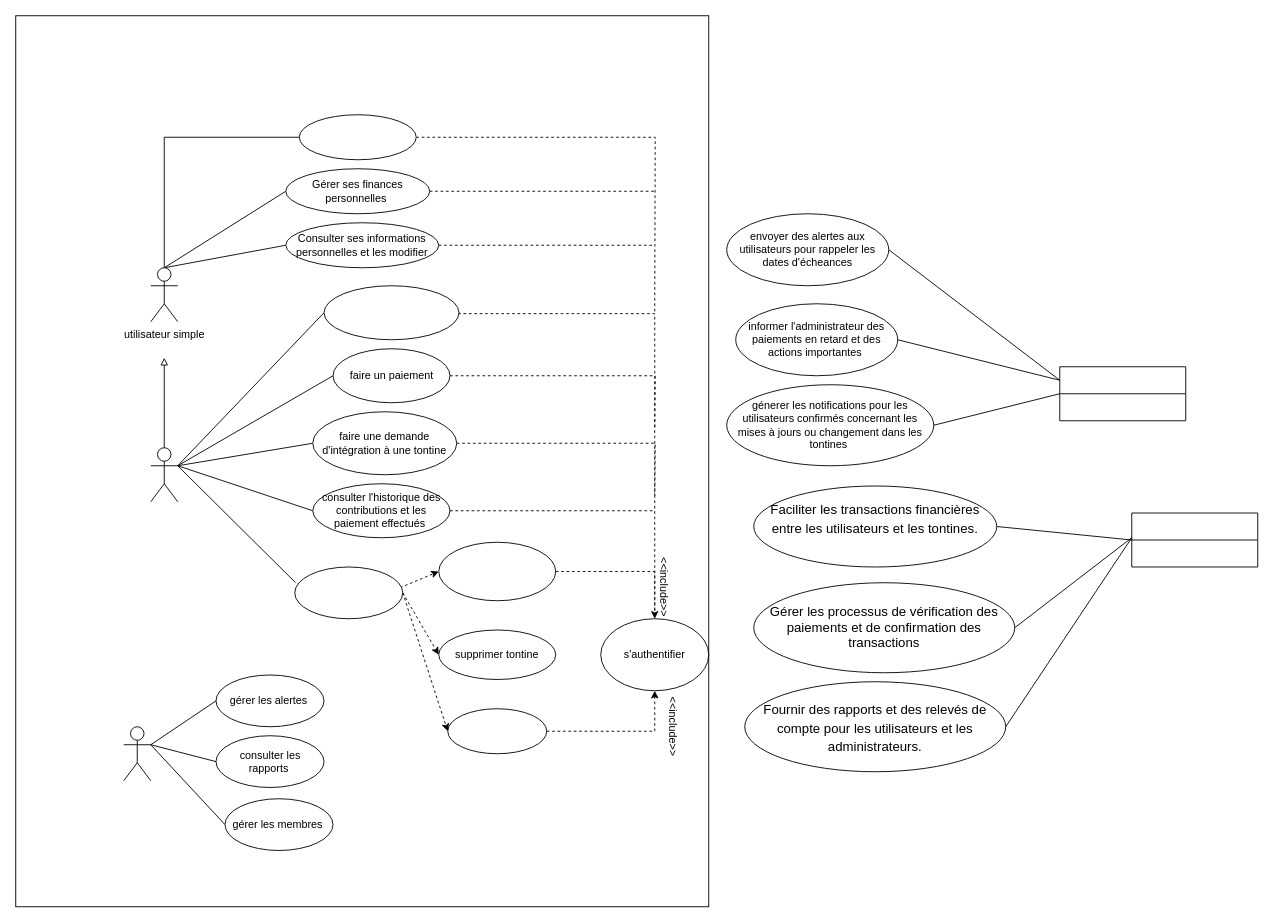
Image size: 1274x923. Some labels were removed from this diagram. The shapes that lost their labels are listed below. From the top down, each one's centre as x and y in pixels, then its label:
At point 357,137: "Consulter les tontines disponibles".
At point 391,312: "choisir un montant de contribution et la frequence".
At point 1122,393: "Système d'alerting".
At point 164,474: "utilisateur confirmé".
At point 1194,539: "Système de paiement en ligne".
At point 497,571: "créer tontine".
At point 348,592: "gérer tontine".
At point 497,731: "éjecter membre".
At point 137,753: "administrateur".
